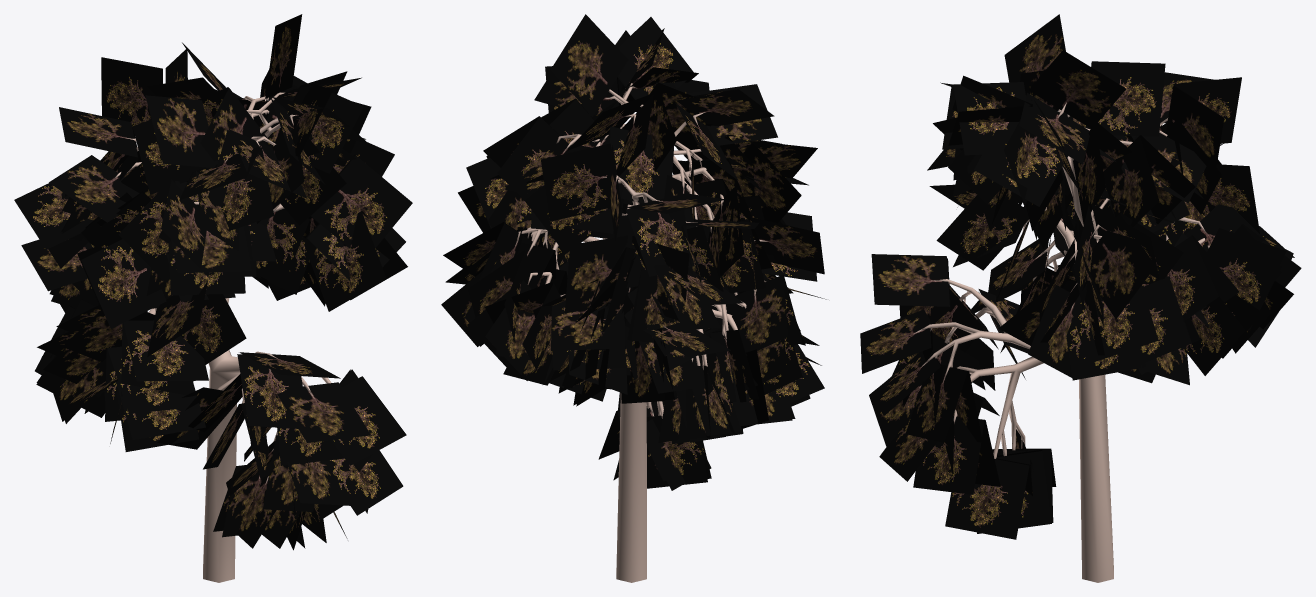
Rendered from tree.glb.
The picture shows the model from 3 angles, left to right: view 1: azimuth 30°, elevation 25°; view 2: azimuth 150°, elevation 25°; view 3: azimuth 270°, elevation 25°; orthographic projection. The views are drawn at different scales.
Bounding box in the file's own units: 4.12 × 6.35 × 4.56.
Materials: 2 (1 with a texture image).
